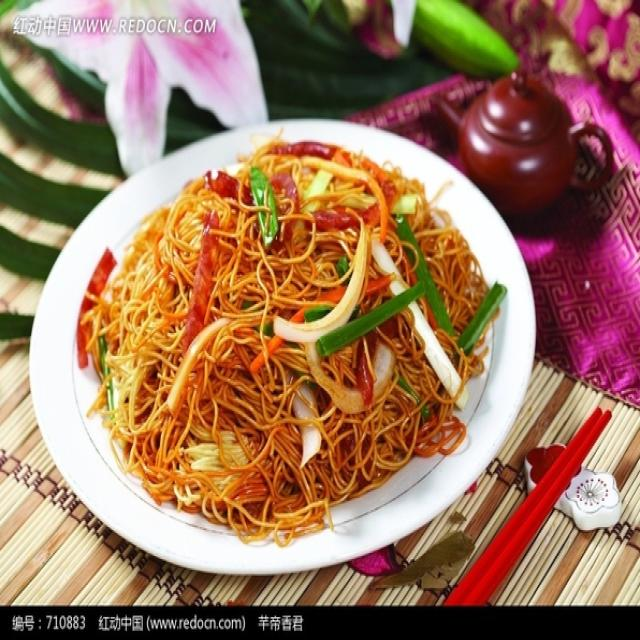面条主食: (72, 125, 511, 541)
